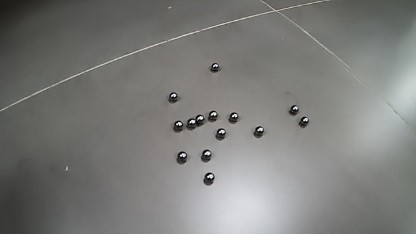ironball: (204, 172, 214, 184), (201, 149, 211, 161), (289, 104, 299, 115), (195, 114, 205, 125), (177, 151, 187, 162), (228, 112, 238, 123), (208, 110, 218, 121), (173, 120, 183, 131), (254, 126, 264, 137), (215, 128, 225, 139), (168, 92, 178, 102), (299, 116, 309, 126), (187, 118, 196, 128), (210, 63, 219, 72)
